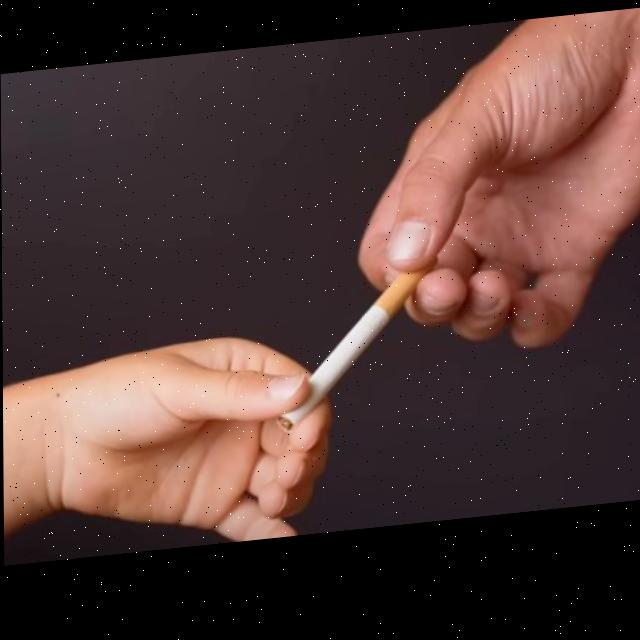cigarette: (273, 265, 439, 441)
